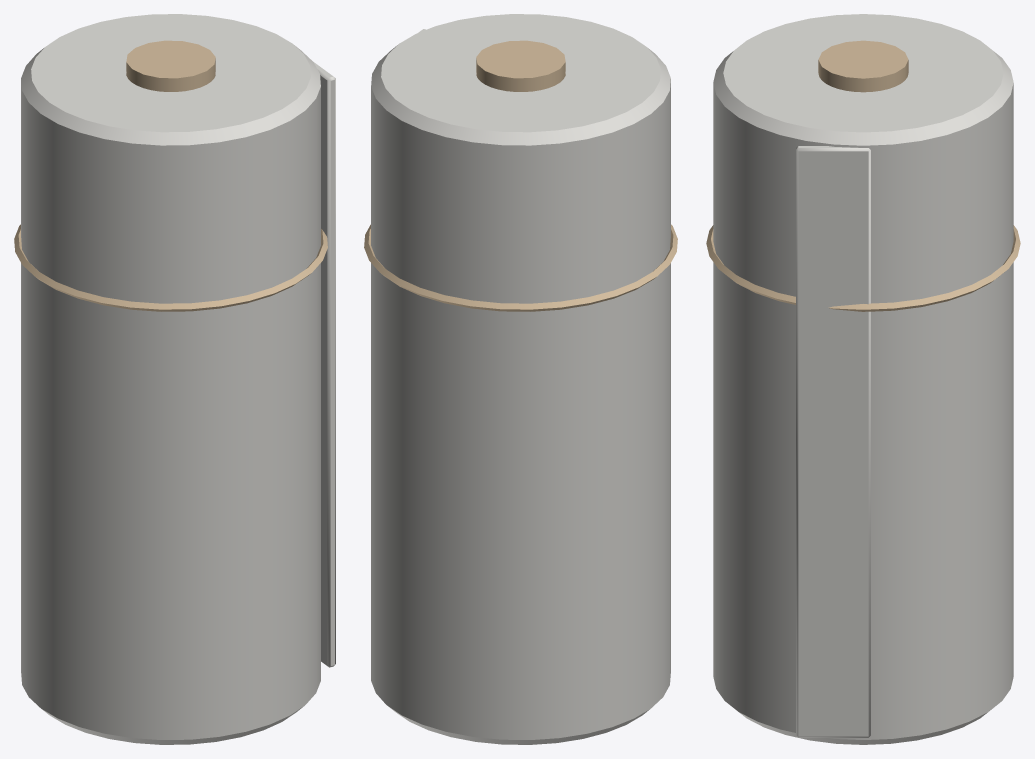
The model's file is interfacing_roll.glb.
The picture shows the model from 3 angles, left to right: view 1: azimuth 30°, elevation 25°; view 2: azimuth 150°, elevation 25°; view 3: azimuth 270°, elevation 25°; orthographic projection.
Visible parts, largest first — view 1: interfacing_roll; view 2: interfacing_roll; view 3: interfacing_roll.
Part boxes in pixels (x1,y1,x2,y2): interfacing_roll: [14, 14, 335, 744]; interfacing_roll: [364, 14, 677, 744]; interfacing_roll: [706, 14, 1020, 744].
Size of the model in its own units: 0.1256 by 0.282 by 0.1256.
